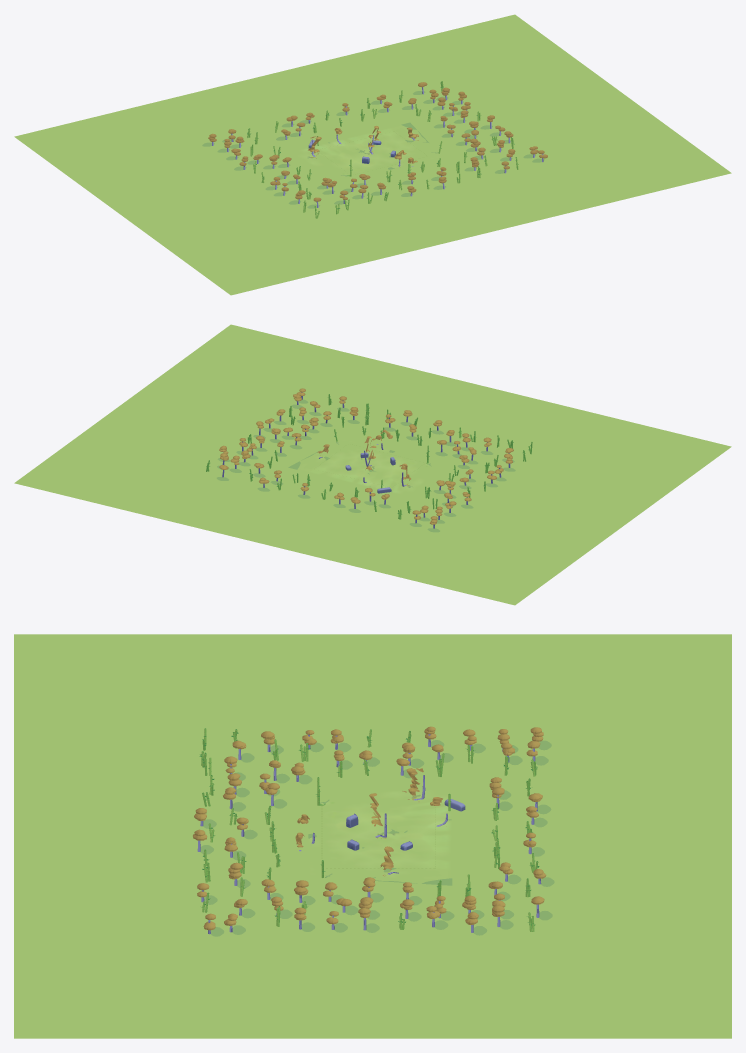
Rendered from plaza.glb.
3 views of the same model, one above another, from view 1: azimuth 30°, elevation 25°; view 2: azimuth 150°, elevation 25°; view 3: azimuth 270°, elevation 25° (orthographic). The views are drawn at different scales.
Visible parts, largest first — view 1: GROUND, GROUND_FIELD; view 2: GROUND, GROUND_FIELD; view 3: GROUND, GROUND_FIELD, CANOPY_MASS_g.
Part boxes in pixels (bbox=[...]): GROUND: bbox=[14, 14, 731, 295]; GROUND_FIELD: bbox=[281, 120, 459, 184]; GROUND: bbox=[14, 324, 731, 605]; GROUND_FIELD: bbox=[281, 433, 458, 499]; GROUND: bbox=[14, 634, 731, 1038]; GROUND_FIELD: bbox=[301, 783, 459, 889]; CANOPY_MASS_g: bbox=[295, 768, 442, 869].
Size of the model in its own units: 320 by 16.85 by 240.
